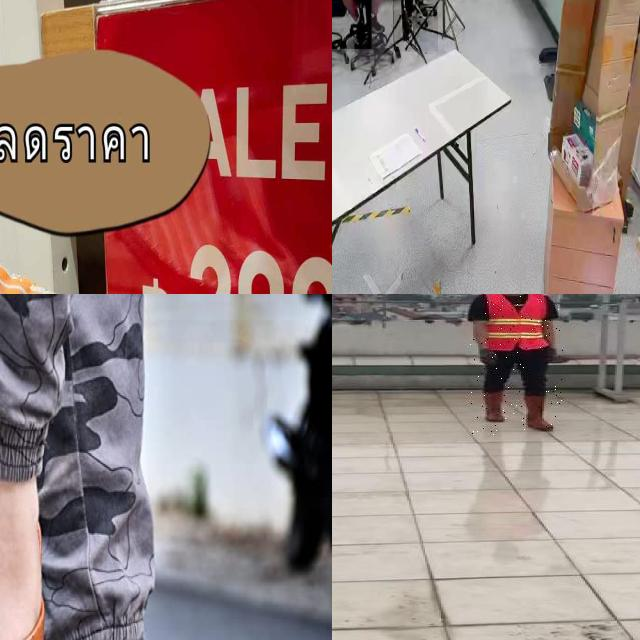Sandals: (0, 135, 129, 294)
boots: (522, 395, 558, 432), (480, 390, 507, 419)
person: (468, 294, 563, 435), (393, 0, 438, 52), (332, 0, 371, 49)
shoes: (351, 14, 367, 48), (368, 11, 388, 36)
vest: (480, 294, 550, 351)
